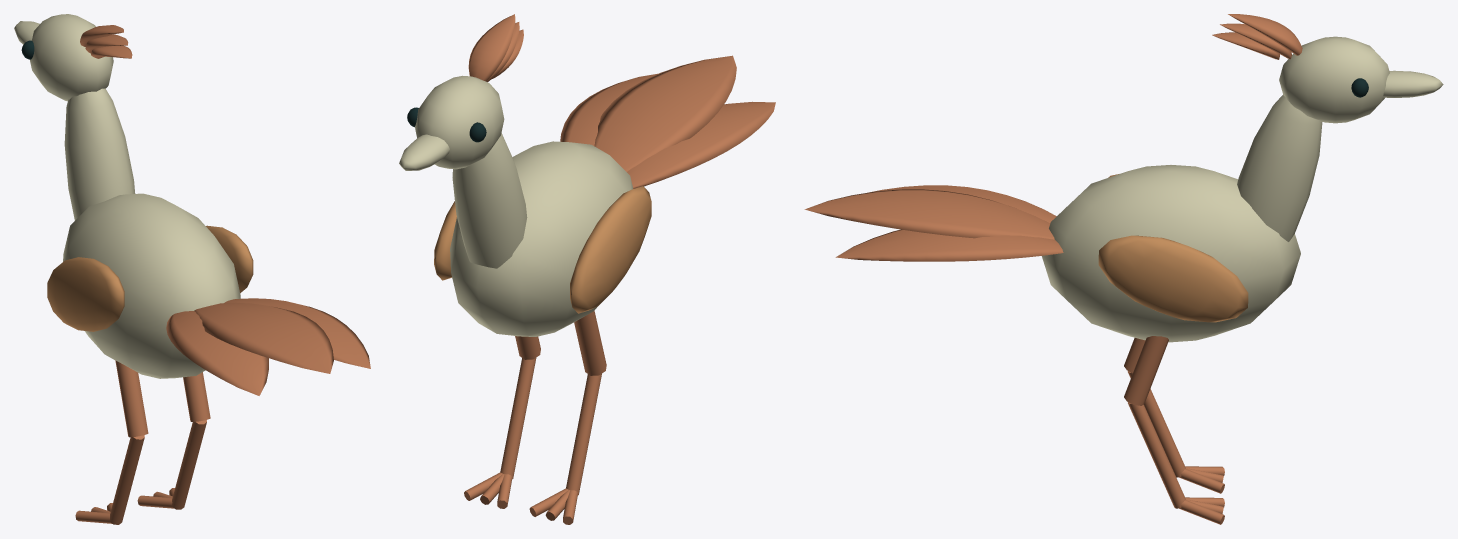
The model's file is dune-runner.glb.
3 views of the same model, side by side, from view 1: azimuth 30°, elevation 25°; view 2: azimuth 150°, elevation 25°; view 3: azimuth 270°, elevation 25° (orthographic). The views are drawn at different scales.
Parts seen in each view (by area): view 1: body, tail, head, wing-left, leg-0, leg-1, crest, wing-right; view 2: body, tail, head, wing-left, leg-0, leg-1, crest, wing-right, eyes; view 3: body, tail, wing-right, head, leg-1, leg-0, crest.
Part boxes in pixels (left/top/right/bottom): body: left=63, top=88, right=240, bottom=378; tail: left=166, top=298, right=370, bottom=395; head: left=14, top=14, right=113, bottom=101; wing-left: left=47, top=257, right=124, bottom=331; leg-0: left=75, top=360, right=148, bottom=524; leg-1: left=137, top=372, right=210, bottom=509; crest: left=80, top=25, right=132, bottom=58; wing-right: left=206, top=225, right=253, bottom=293; body: left=450, top=133, right=633, bottom=336; tail: left=560, top=55, right=775, bottom=188; head: left=399, top=75, right=504, bottom=170; wing-left: left=570, top=186, right=651, bottom=313; leg-0: left=529, top=310, right=606, bottom=524; leg-1: left=464, top=336, right=540, bottom=508; crest: left=468, top=14, right=523, bottom=81; wing-right: left=434, top=201, right=456, bottom=280; eyes: left=407, top=107, right=486, bottom=142; body: left=1042, top=95, right=1322, bottom=342; tail: left=804, top=185, right=1063, bottom=261; wing-right: left=1098, top=235, right=1248, bottom=322; head: left=1279, top=36, right=1443, bottom=123; leg-1: left=1124, top=336, right=1224, bottom=524; leg-0: left=1124, top=338, right=1224, bottom=493; crest: left=1212, top=14, right=1302, bottom=59.
Size of the model in its own units: 0.76 by 2.19 by 2.6.
